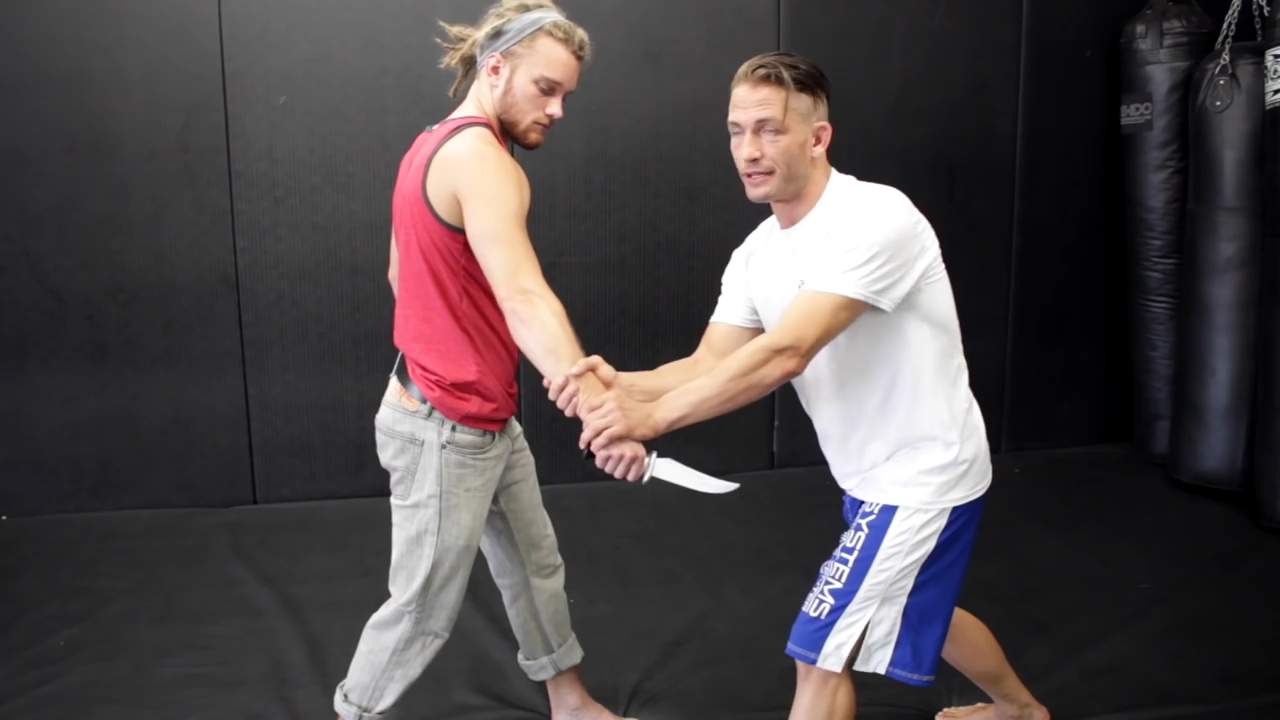knife: (580, 449, 749, 506)
